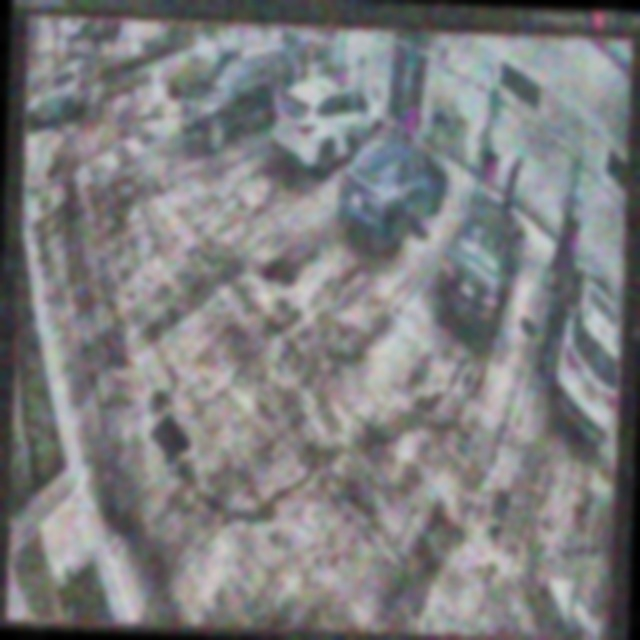Car: (337, 126, 450, 255), (438, 191, 527, 341), (272, 81, 386, 181)
